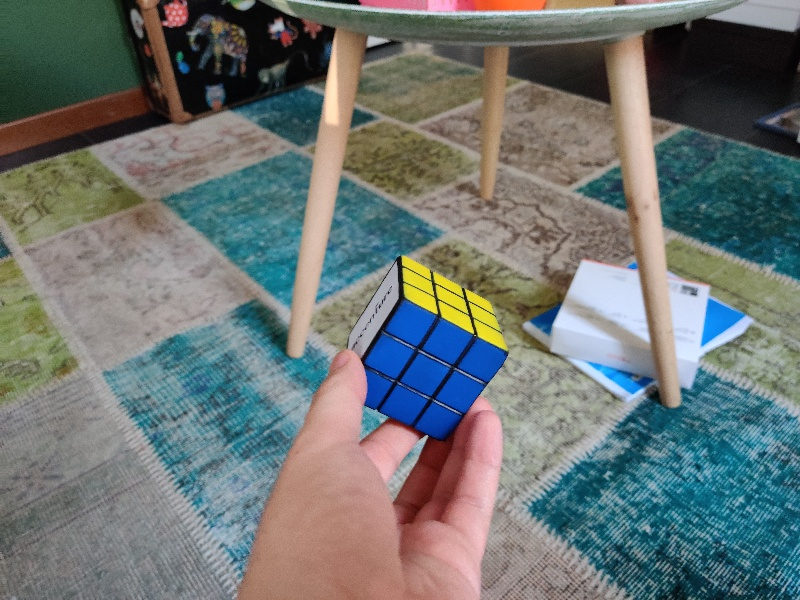rubik: (343, 255, 509, 445)
